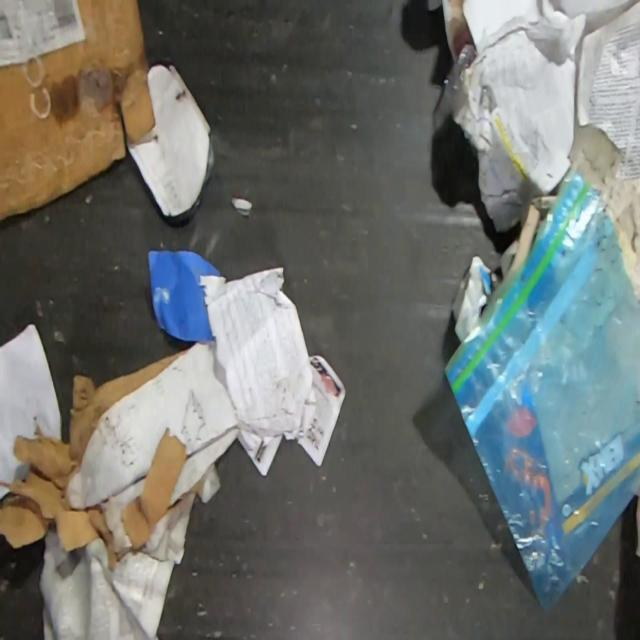cardboard: (0, 340, 238, 571), (0, 0, 156, 223), (127, 64, 214, 217)
soft_plastic: (442, 166, 640, 613), (432, 42, 477, 130)
